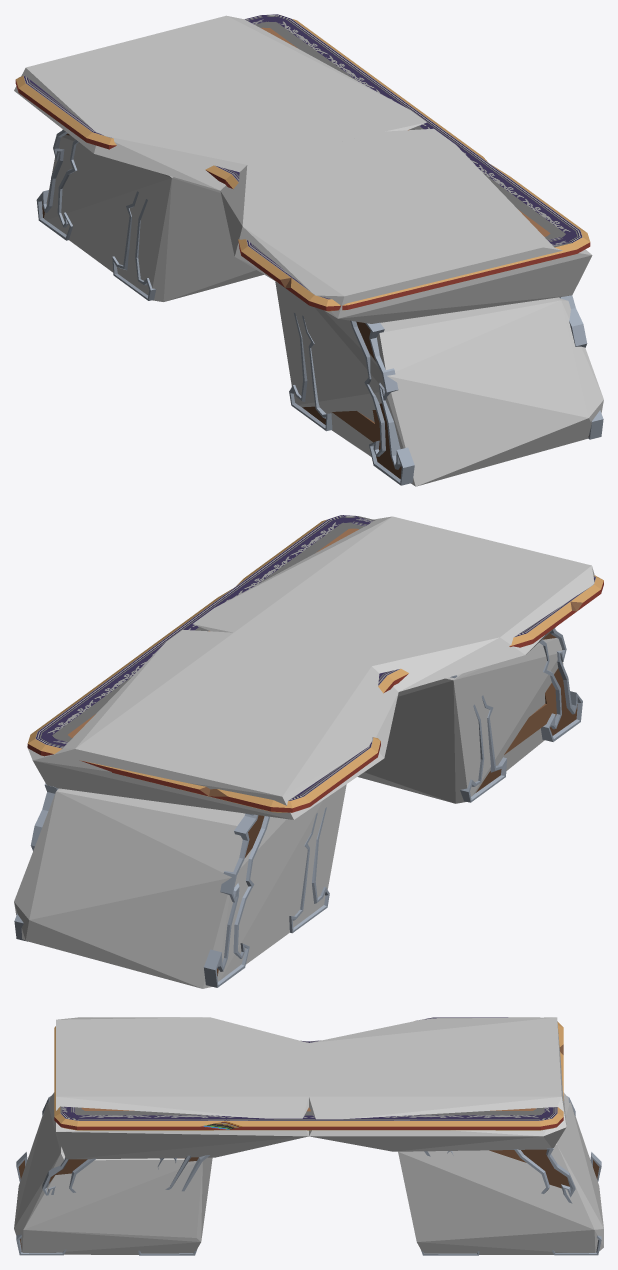
Rendered from SM_Prop_Desk_01.fbx.
3 renders of one model, top to bottom at view 1: azimuth 30°, elevation 25°; view 2: azimuth 150°, elevation 25°; view 3: azimuth 270°, elevation 25°, orthographic. The views are drawn at different scales.
Parts seen in each view (by area): view 1: SM_Prop_Desk_01_ConvexHulls, SM_Prop_Desk_01; view 2: SM_Prop_Desk_01_ConvexHulls, SM_Prop_Desk_01; view 3: SM_Prop_Desk_01_ConvexHulls, SM_Prop_Desk_01.
Boxes of the visible parts, x1,y1,x2,y2 form: SM_Prop_Desk_01_ConvexHulls: (14, 15, 603, 486); SM_Prop_Desk_01: (15, 14, 603, 485); SM_Prop_Desk_01_ConvexHulls: (14, 516, 594, 988); SM_Prop_Desk_01: (14, 515, 603, 987); SM_Prop_Desk_01_ConvexHulls: (14, 1017, 603, 1254); SM_Prop_Desk_01: (16, 1017, 601, 1255).
Size of the model in its own units: 137 by 312 by 86.47.
Materials: 2 (1 with a texture image).
